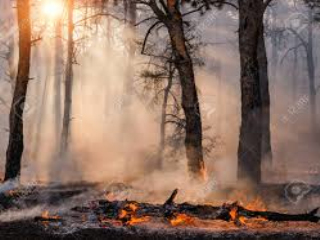smoke: (3, 174, 104, 223), (147, 143, 195, 192)
